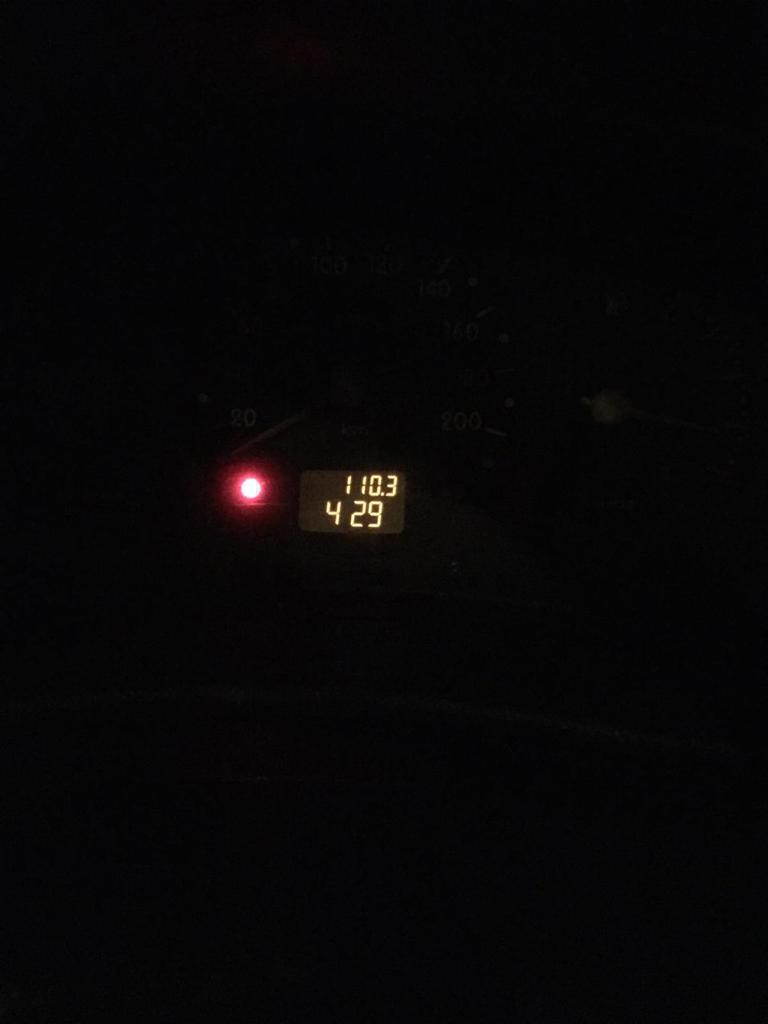,: (380, 491, 385, 496)
0: (368, 474, 382, 496)
1: (345, 474, 352, 495), (360, 475, 367, 495)
2: (349, 500, 366, 527)
3: (385, 474, 397, 496)
4: (325, 500, 341, 526)
9: (367, 500, 383, 528)
odometer: (295, 468, 407, 535)
